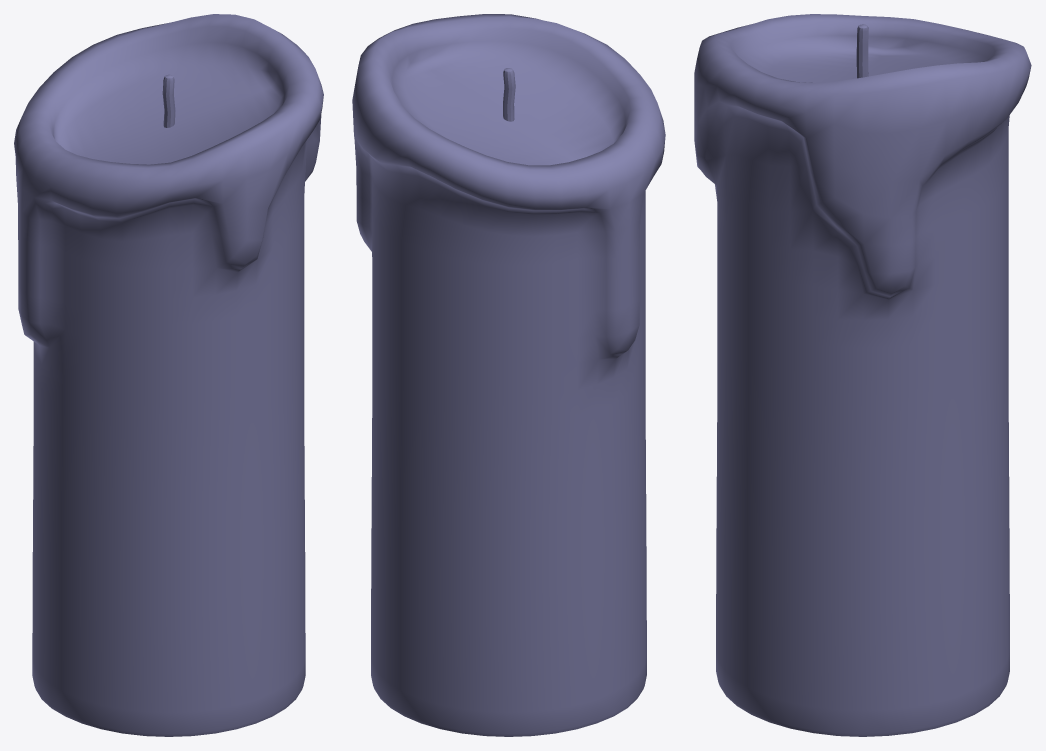
File: Candle_2.fbx
3 views of the same model, side by side, from view 1: azimuth 30°, elevation 25°; view 2: azimuth 150°, elevation 25°; view 3: azimuth 270°, elevation 25° (orthographic). The views are drawn at different scales.
Parts seen in each view (by area): view 1: Cylinder041; view 2: Cylinder041; view 3: Cylinder041.
Part boxes in pixels (bbox=[...]): Cylinder041: bbox=[14, 14, 323, 736]; Cylinder041: bbox=[352, 14, 665, 736]; Cylinder041: bbox=[694, 14, 1031, 736].
Bounding box in the file's own units: 6.82 × 14.9 × 6.84.
